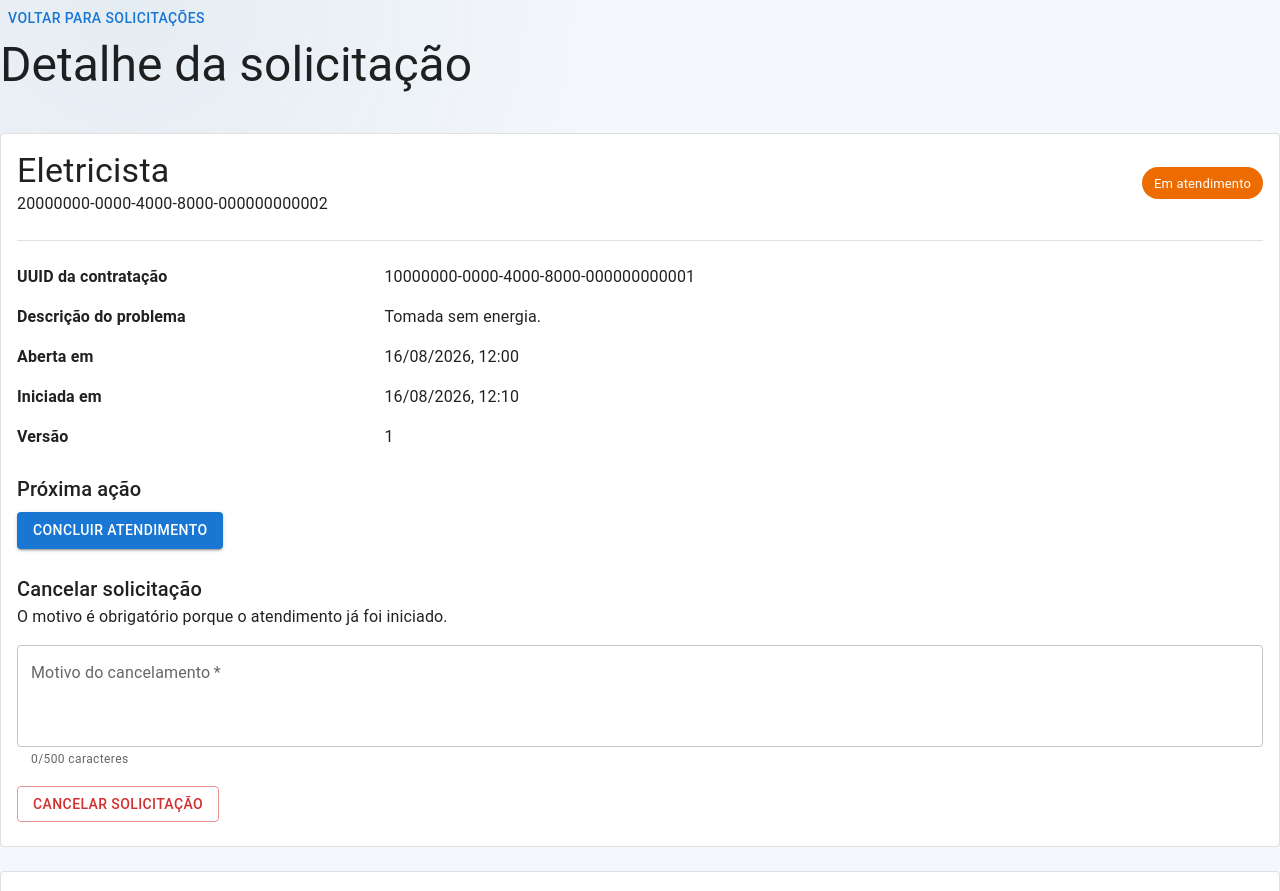
Test: PaginaDetalheSolicitacao › conclui o atendimento e mostra o estado devolvido pela API
Click the button "Concluir atendimento" at (120, 531), box [17,512,224,549]
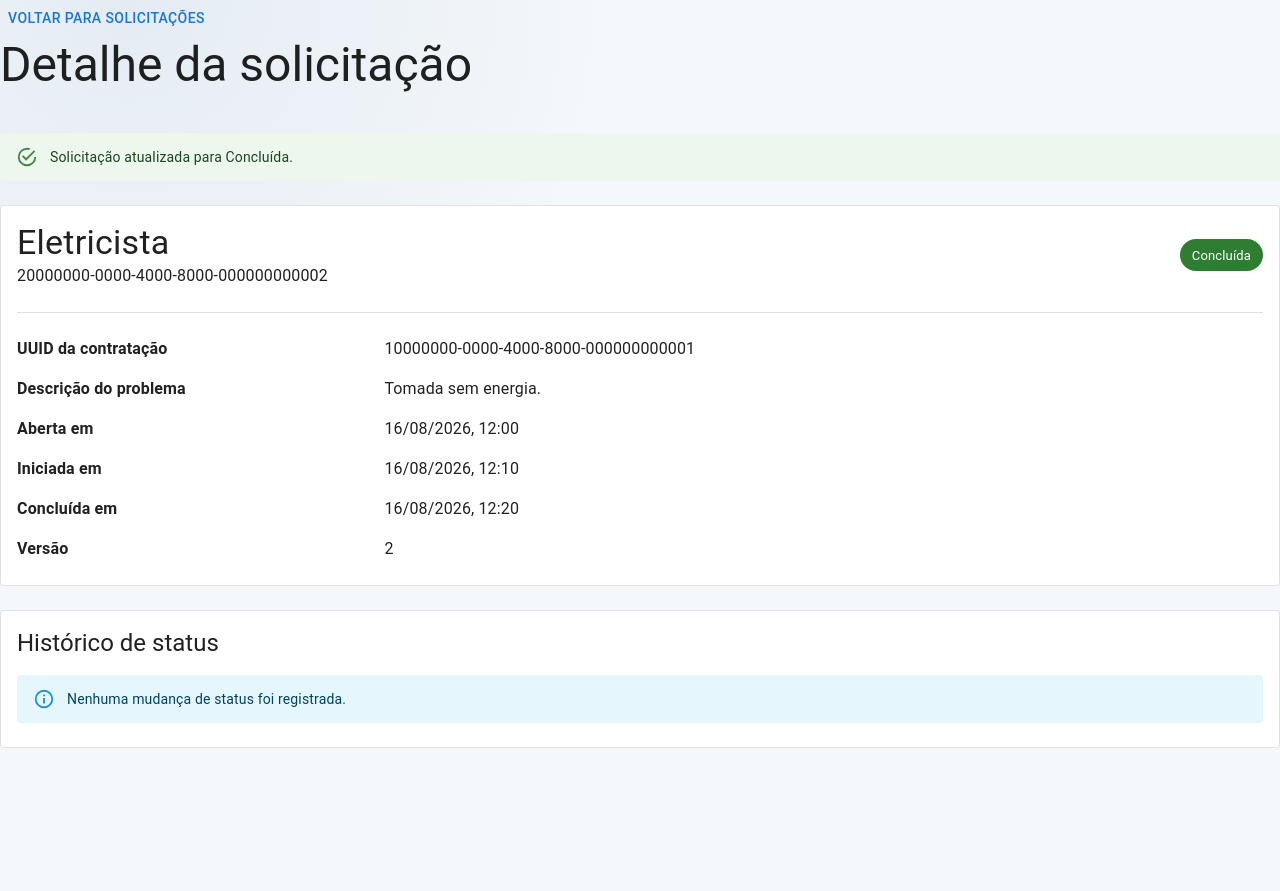
Check: the element named "Status: Concluída" is shown, box [1180,239,1263,271]
Check: the heading "Cancelar solicitação" is gone
